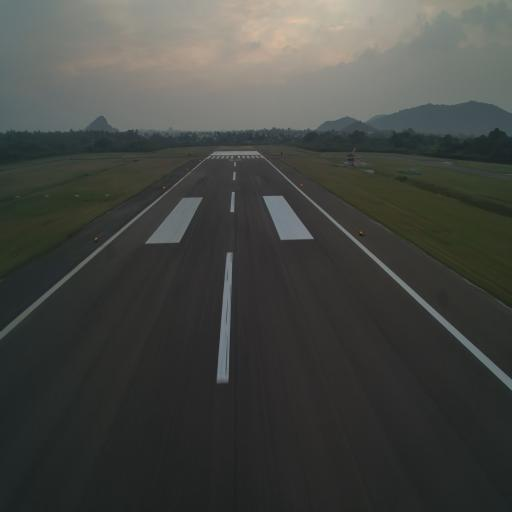on: (93, 234, 98, 244), (359, 228, 364, 237)
